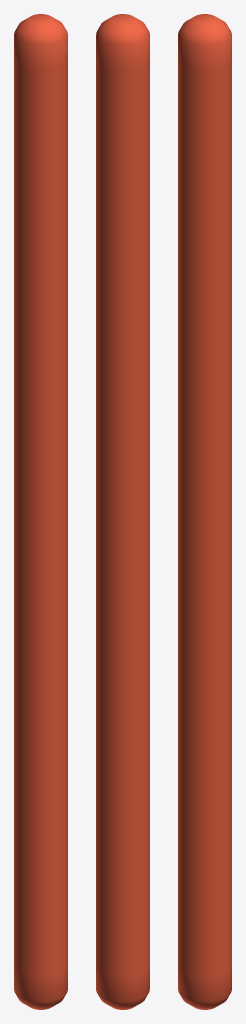
The model's file is Laser Test.fbx.
3 views of the same model, side by side, from view 1: azimuth 90°, elevation 25°; view 2: azimuth 150°, elevation 25°; view 3: azimuth 270°, elevation 25° (orthographic).
Visible parts, largest first — view 1: Laser Beam; view 2: Laser Beam; view 3: Laser Beam.
Part boxes in pixels (left/top/right/bottom): Laser Beam: left=14, top=14, right=67, bottom=1009; Laser Beam: left=96, top=14, right=149, bottom=1009; Laser Beam: left=178, top=14, right=231, bottom=1009.
Bounding box in the file's own units: 0.0492 × 0.0492 × 0.9944.
